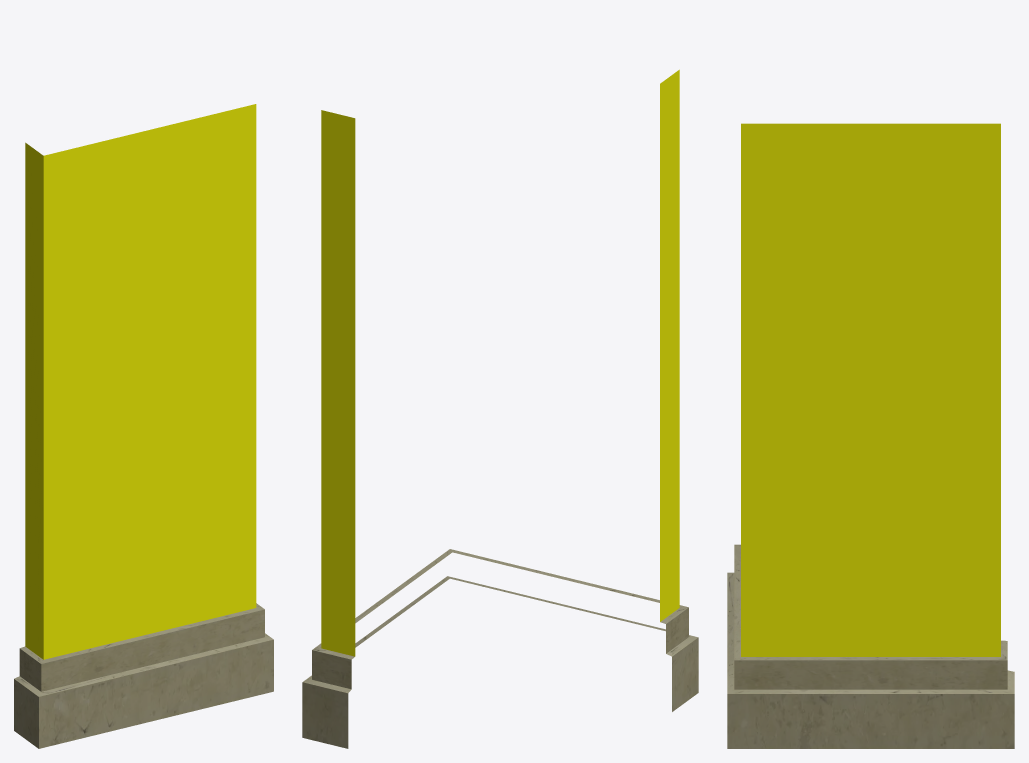
Rendered from brick-cornercolumn-bottom.glb.
3 views of the same model, side by side, from view 1: azimuth 30°, elevation 25°; view 2: azimuth 150°, elevation 25°; view 3: azimuth 270°, elevation 25° (orthographic). The views are drawn at different scales.
Visible parts, largest first — view 1: Brick_CornerColumn_Bottom; view 2: Brick_CornerColumn_Bottom; view 3: Brick_CornerColumn_Bottom.
Boxes of the visible parts, bbox=[...] form: Brick_CornerColumn_Bottom: bbox=[14, 104, 273, 748]; Brick_CornerColumn_Bottom: bbox=[302, 69, 698, 748]; Brick_CornerColumn_Bottom: bbox=[727, 123, 1014, 748].
Size of the model in its own units: 1.26 by 3 by 1.26.
Materials: 2 (1 with a texture image).
